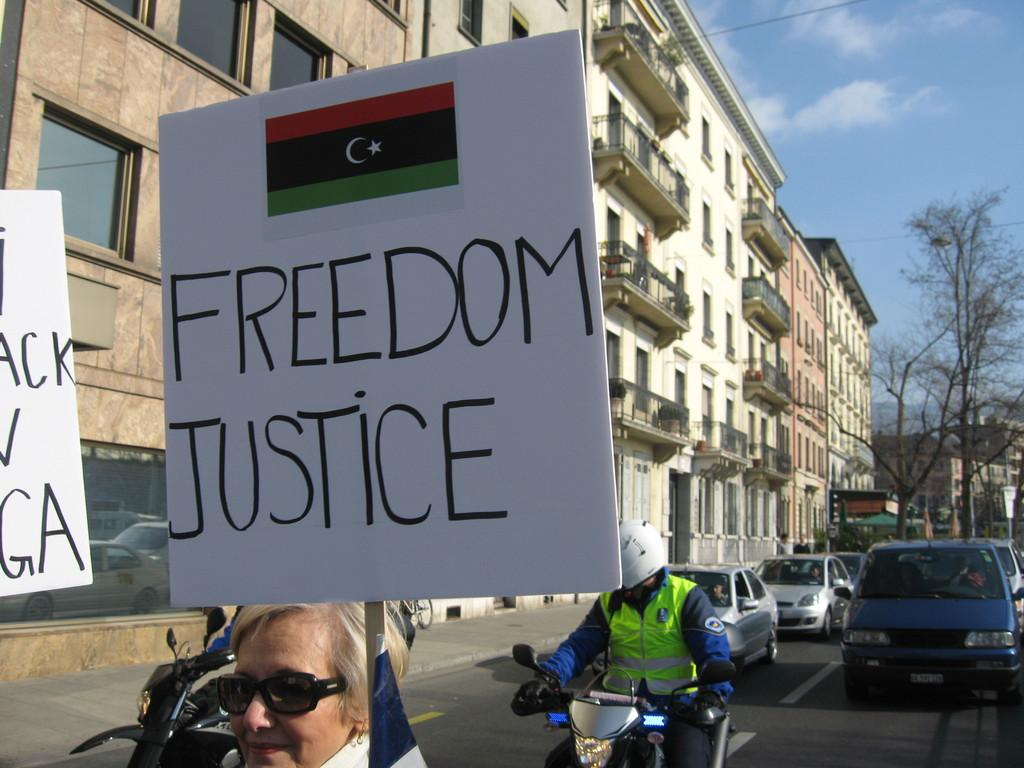helmet: (604, 519, 665, 592)
nohelmet: (216, 603, 409, 768)
